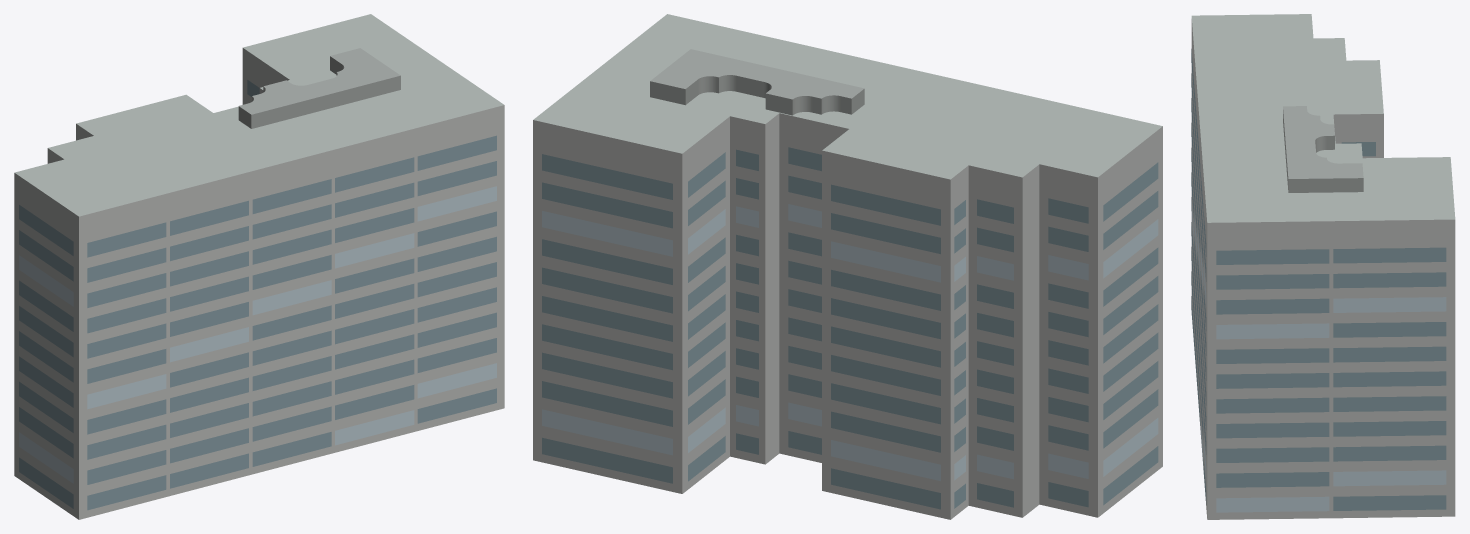
File: fallback-mapo-grang-xi-203.glb
3 renders of one model, left to right at view 1: azimuth 30°, elevation 25°; view 2: azimuth 150°, elevation 25°; view 3: azimuth 270°, elevation 25°, orthographic. The views are drawn at different scales.
Parts seen in each view (by area): view 1: fallback-mapo-grang-xi-203; view 2: fallback-mapo-grang-xi-203; view 3: fallback-mapo-grang-xi-203.
Part boxes in pixels (left/top/right/bottom): fallback-mapo-grang-xi-203: left=14, top=14, right=504, bottom=519; fallback-mapo-grang-xi-203: left=533, top=14, right=1162, bottom=519; fallback-mapo-grang-xi-203: left=1191, top=14, right=1455, bottom=519.
Bounding box in the file's own units: 44.67 × 31 × 23.86.
